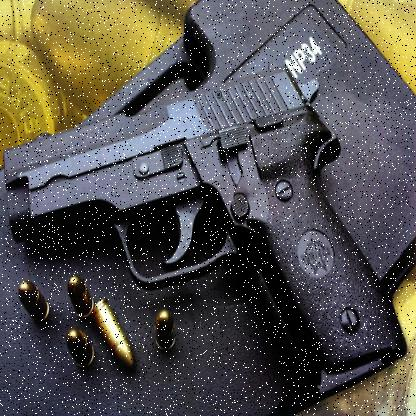pistol: (2, 60, 406, 389)
